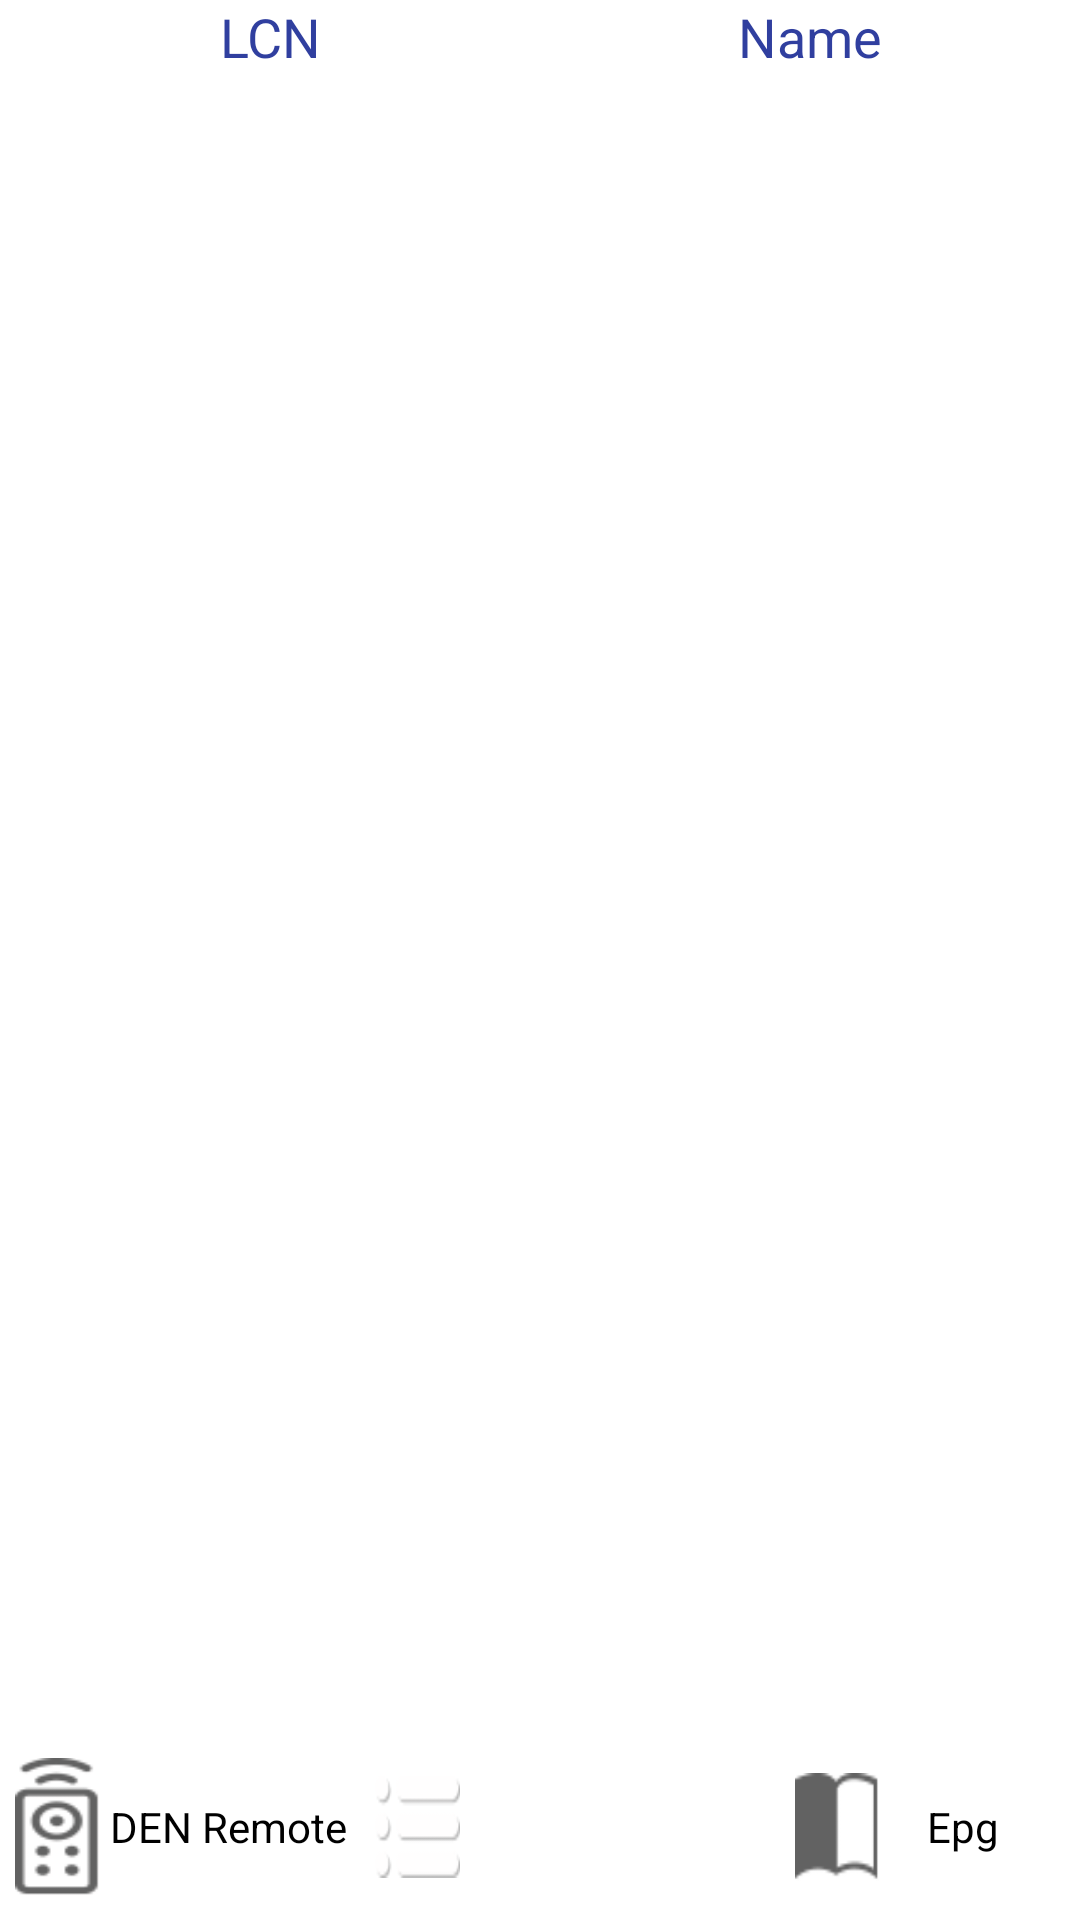

Screen size 1080 × 1920. Icon name, then its center in pixels as point (x, y):
micontro: point (56, 1826)
